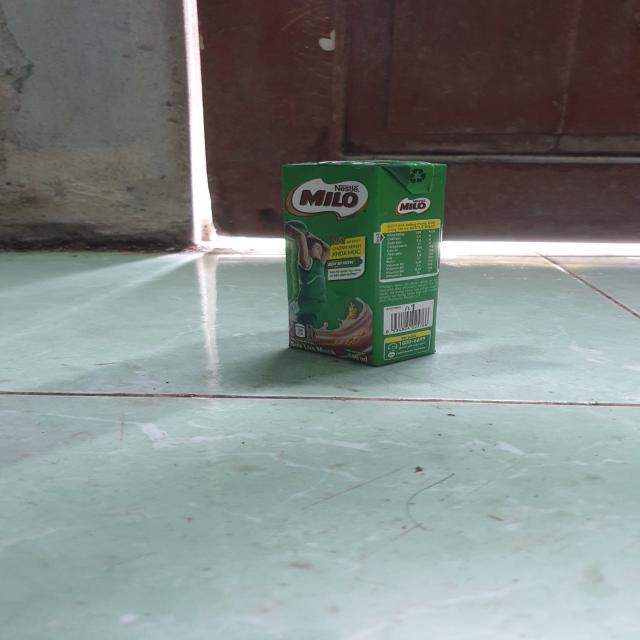Milo: (275, 160, 455, 369)
